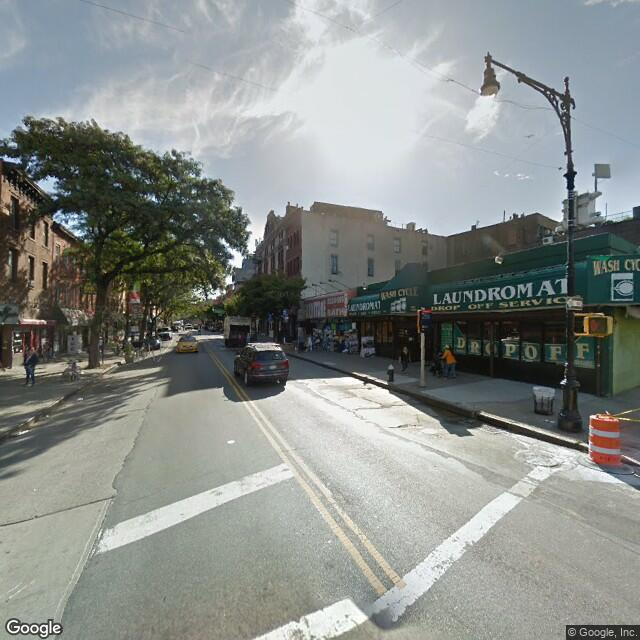litter: (545, 418, 554, 423), (77, 396, 85, 401), (45, 414, 50, 415)
